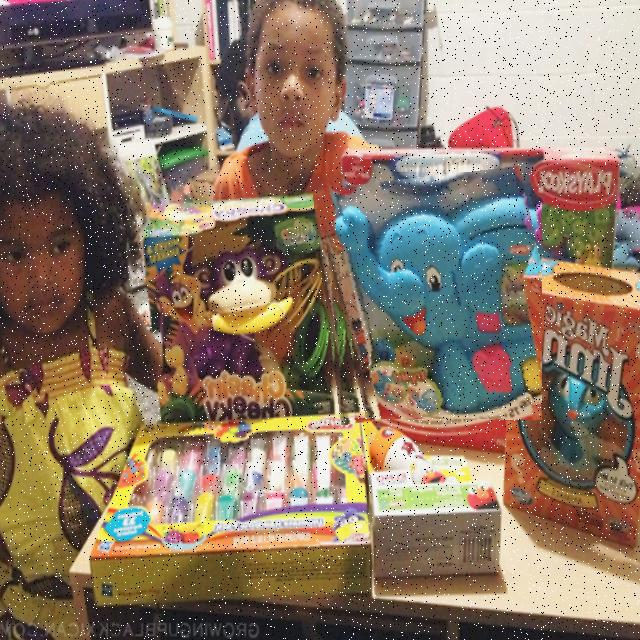elephant: (319, 172, 542, 420)
